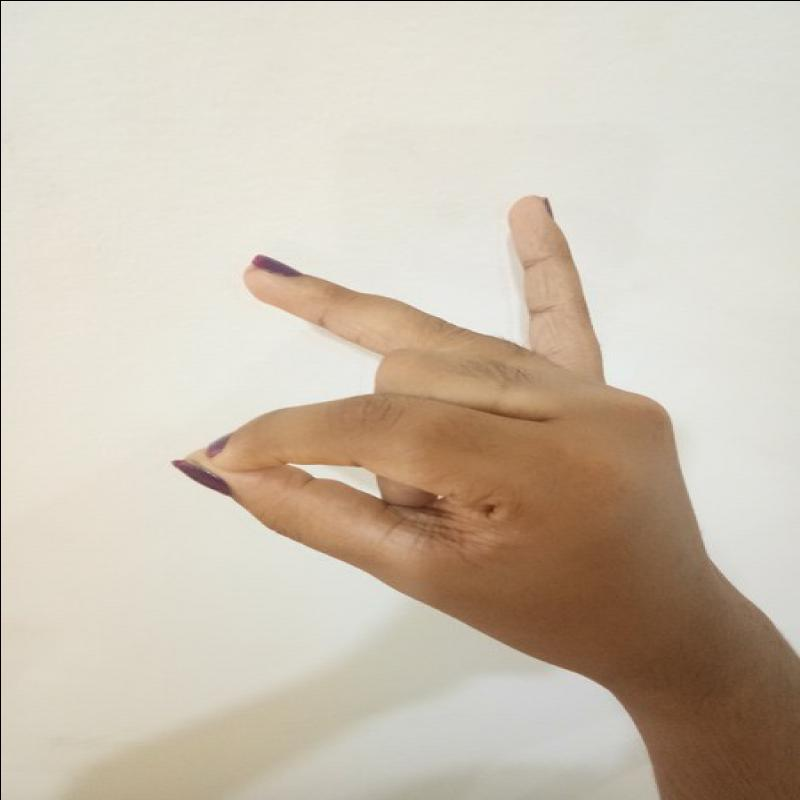Katakam: (160, 173, 706, 670)
